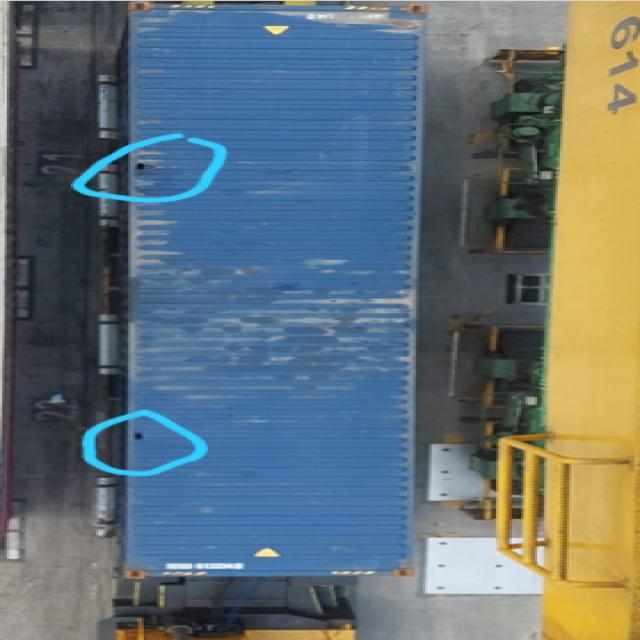hole: (122, 162, 170, 173), (131, 430, 158, 448)
